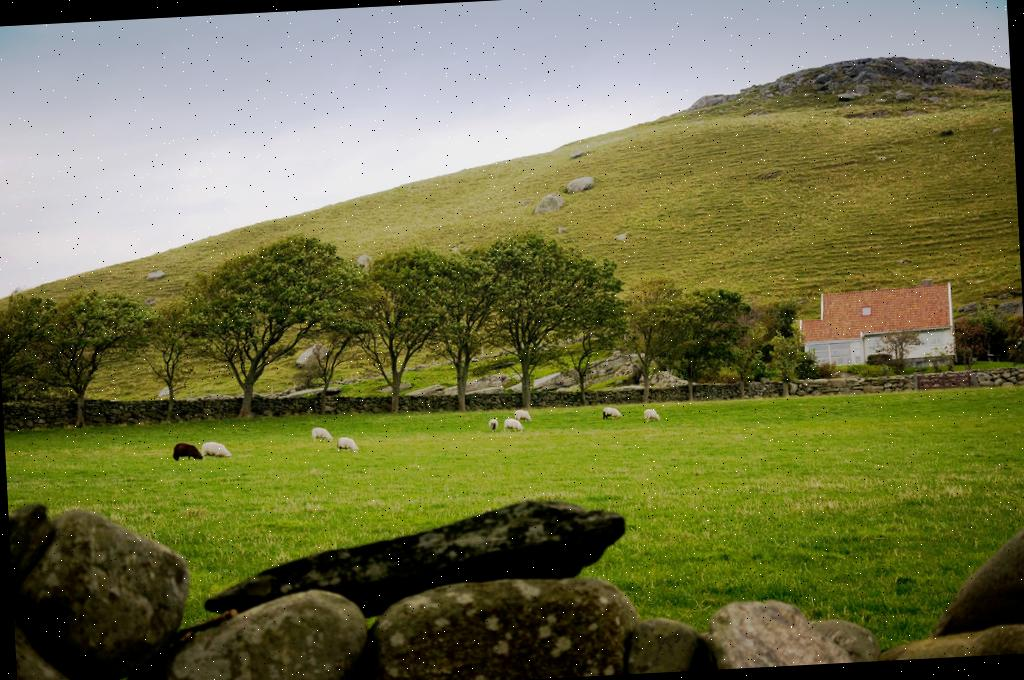Sheep: (200, 439, 234, 462), (172, 442, 202, 463), (310, 426, 332, 445), (338, 437, 360, 454), (600, 406, 624, 421), (504, 417, 524, 434), (512, 407, 532, 423), (640, 408, 662, 422), (487, 419, 500, 435)
